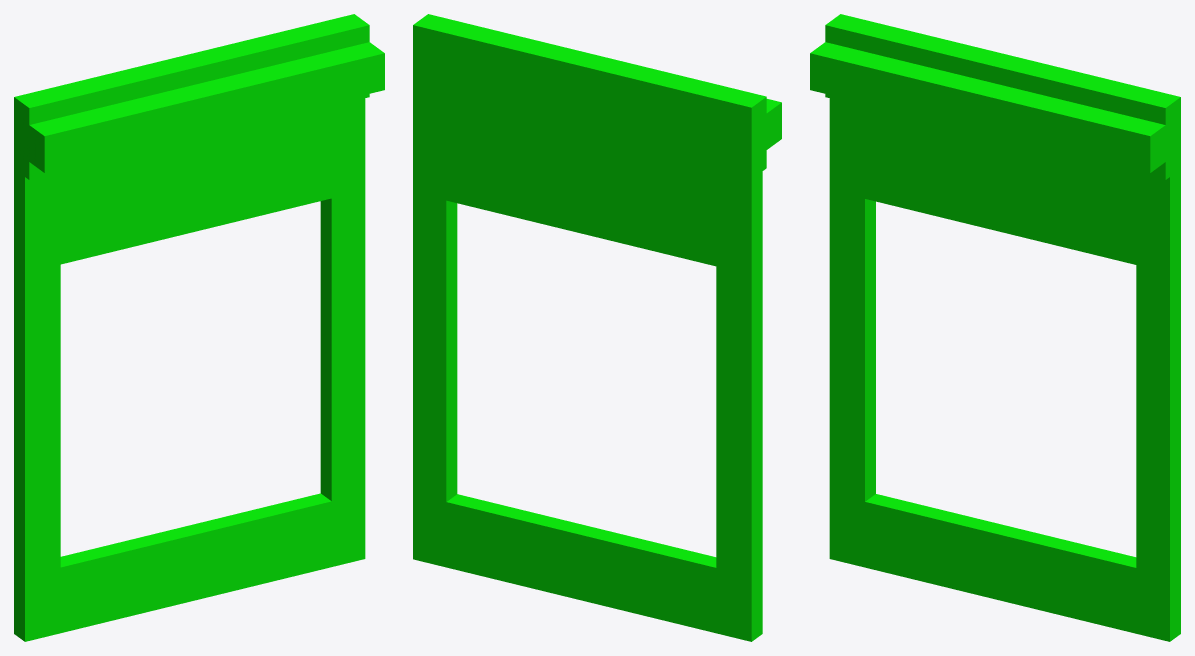
Rendered from WindowV9.fbx.
3 views of the same model, side by side, from view 1: azimuth 30°, elevation 25°; view 2: azimuth 150°, elevation 25°; view 3: azimuth 330°, elevation 25° (orthographic).
Parts seen in each view (by area): view 1: cafe_wall3; view 2: cafe_wall3; view 3: cafe_wall3.
Part boxes in pixels (x1,y1,x2,y2): cafe_wall3: [14, 14, 384, 641]; cafe_wall3: [413, 14, 781, 641]; cafe_wall3: [810, 14, 1180, 641].
Bounding box in the file's own units: 408 × 615 × 63.22.
